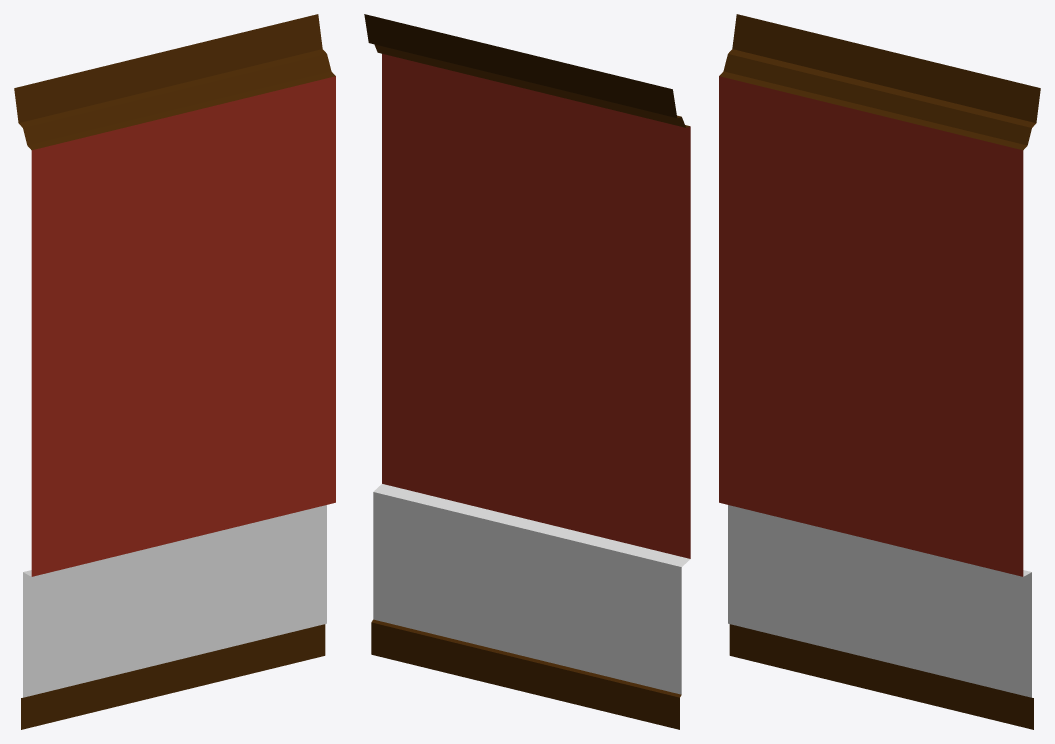
Rendered from Bar_Wall.fbx.
3 renders of one model, left to right at view 1: azimuth 30°, elevation 25°; view 2: azimuth 150°, elevation 25°; view 3: azimuth 330°, elevation 25°, orthographic.
Visible parts, largest first — view 1: Cube; view 2: Cube; view 3: Cube.
Part boxes in pixels (box(x1,y1,x2,y2)): Cube: box(14, 14, 335, 729); Cube: box(364, 14, 690, 729); Cube: box(719, 14, 1040, 729).
Bounding box in the file's own units: 200 × 400 × 20.
